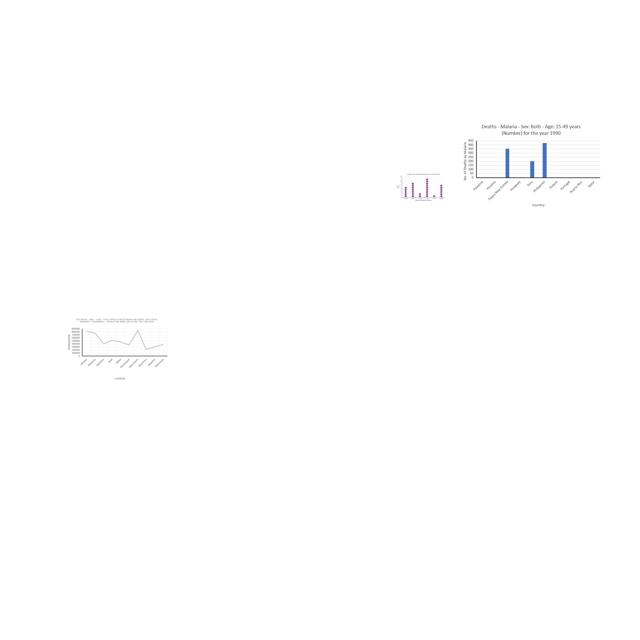Graph: (458, 122, 603, 211), (65, 317, 169, 380), (395, 173, 446, 202)
